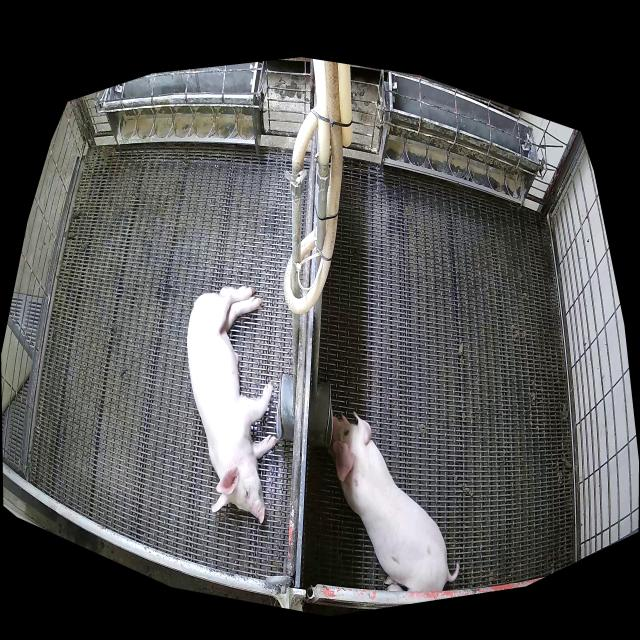pig: (327, 412, 461, 594), (187, 285, 277, 522)
